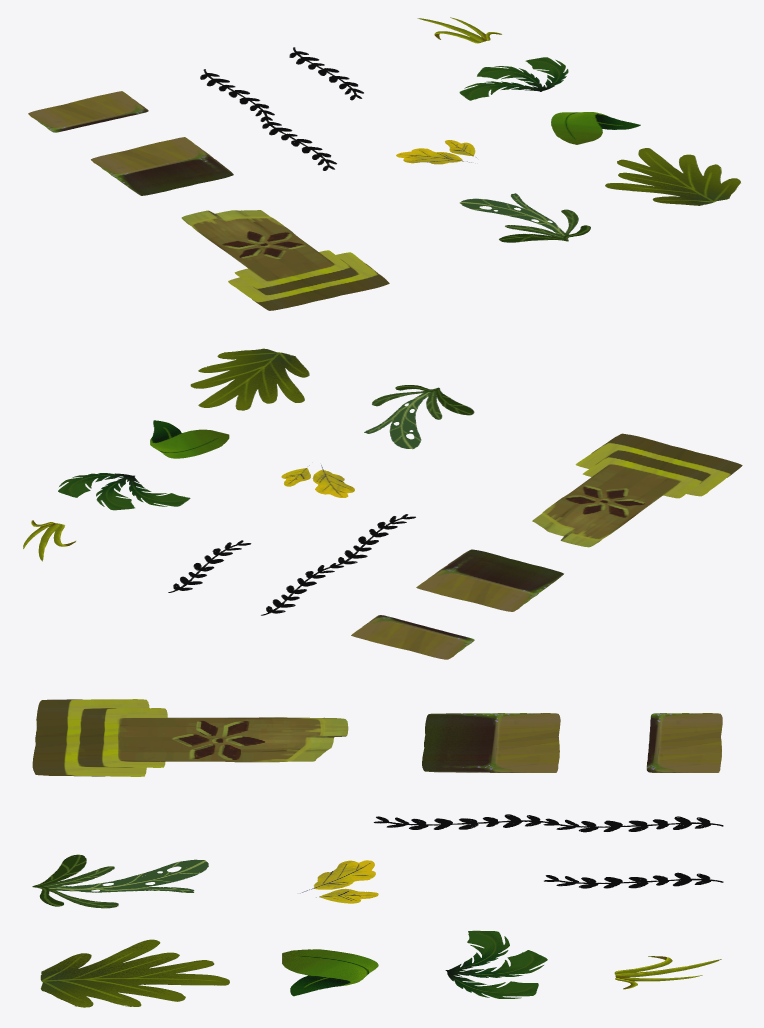
Rendered from Tierra2.fbx.
The picture shows the model from 3 angles, top to bottom: view 1: azimuth 30°, elevation 25°; view 2: azimuth 150°, elevation 25°; view 3: azimuth 270°, elevation 25°; orthographic projection. The views are drawn at different scales.
Parts seen in each view (by area): view 1: Plane.001, Plane.003, Plane.008, Plane.002, Plane.007, Plane.010, Plane.009, Plane.004, Plane.006, Plane.005, Plane.011; view 2: Plane.001, Plane.003, Plane.008, Plane.002, Plane.007, Plane.010, Plane.009, Plane.004, Plane.006, Plane.005, Plane.011; view 3: Plane.001, Plane.003, Plane.008, Plane.002, Plane.007, Plane.010, Plane.009, Plane.004, Plane.006, Plane.005, Plane.011.
Boxes of the visible parts, x1,y1,x2,y2 form: Plane.001: (181, 210, 389, 310); Plane.003: (91, 137, 233, 195); Plane.008: (605, 148, 740, 205); Plane.002: (28, 91, 148, 132); Plane.007: (459, 193, 590, 242); Plane.010: (459, 57, 568, 100); Plane.009: (551, 112, 640, 144); Plane.004: (200, 69, 336, 170); Plane.006: (396, 140, 476, 164); Plane.005: (289, 47, 363, 100); Plane.011: (417, 17, 501, 43); Plane.001: (532, 433, 742, 547); Plane.003: (416, 549, 563, 611); Plane.008: (190, 348, 309, 410); Plane.002: (351, 615, 474, 659); Plane.007: (364, 385, 474, 449); Plane.010: (58, 473, 190, 510); Plane.009: (150, 420, 229, 458); Plane.004: (261, 514, 415, 615); Plane.006: (281, 465, 354, 497); Plane.005: (168, 540, 251, 592); Plane.011: (23, 520, 75, 561); Plane.001: (32, 699, 348, 776); Plane.003: (422, 713, 560, 772); Plane.008: (40, 939, 229, 1007); Plane.002: (646, 713, 722, 772); Plane.007: (32, 854, 208, 908); Plane.010: (445, 930, 547, 998); Plane.009: (282, 949, 378, 996); Plane.004: (373, 814, 723, 832); Plane.006: (300, 860, 378, 903); Plane.005: (544, 872, 723, 888); Plane.011: (614, 956, 721, 989).
Bounding box in the file's own units: 183 × 2.61e-05 × 179.
